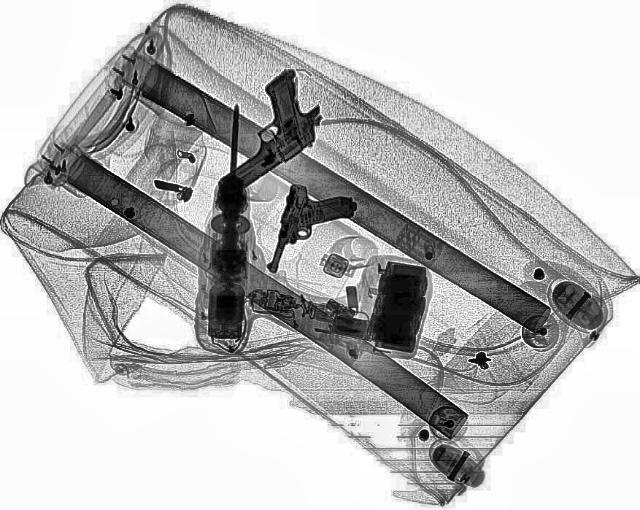Gun: (175, 67, 353, 192), (262, 182, 362, 282)
